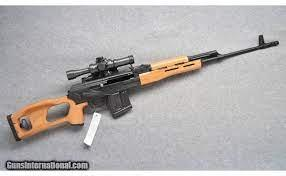larga: (6, 34, 279, 141)
